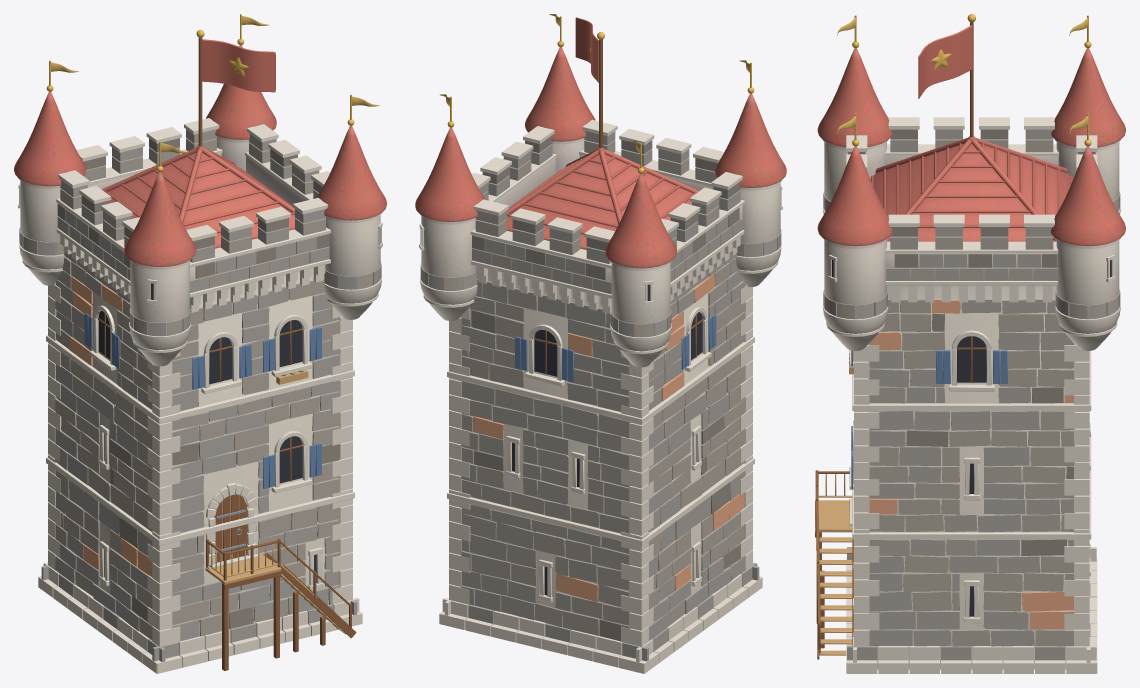
Rendered from keep.glb.
3 views of the same model, side by side, from view 1: azimuth 30°, elevation 25°; view 2: azimuth 150°, elevation 25°; view 3: azimuth 270°, elevation 25° (orthographic). The views are drawn at different scales.
Visible parts, largest first — view 1: keep_stonework, keep_masonry, keep_body, keep_details, keep_trim; view 2: keep_stonework, keep_masonry, keep_body, keep_details, keep_trim; view 3: keep_stonework, keep_body, keep_masonry, keep_details, keep_trim.
Part boxes in pixels (x1,y1,x2,y2): keep_stonework: (55, 252, 340, 641); keep_masonry: (18, 118, 382, 673); keep_body: (14, 45, 386, 635); keep_details: (46, 147, 356, 670); keep_trim: (19, 14, 381, 384); keep_stonework: (461, 253, 745, 641); keep_masonry: (419, 119, 782, 673); keep_body: (415, 47, 786, 635); keep_details: (447, 149, 754, 602); keep_trim: (420, 14, 781, 367); keep_stonework: (868, 299, 1074, 646); keep_body: (817, 48, 1125, 669); keep_masonry: (823, 117, 1120, 673); keep_details: (815, 144, 1097, 659); keep_trim: (822, 14, 1120, 374).
Size of the model in its own units: 9.34 by 20.29 by 9.42.
Materials: 16 (1 with a texture image).
